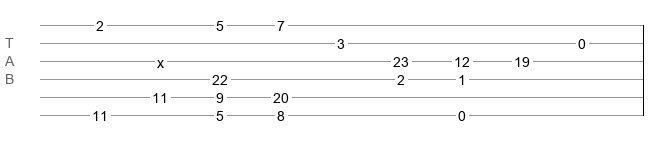0: (458, 108, 466, 118), (578, 36, 586, 46)
1: (458, 72, 466, 82)
11: (92, 108, 108, 118), (152, 90, 168, 100)
12: (454, 54, 470, 64)
19: (514, 54, 530, 64)
2: (96, 18, 104, 28), (397, 72, 405, 82)
20: (273, 90, 289, 100)
22: (212, 72, 228, 82)
23: (393, 54, 409, 64)
3: (337, 36, 345, 46)
5: (216, 108, 224, 118), (216, 18, 224, 28)
7: (277, 18, 285, 28)
8: (277, 108, 285, 118)
9: (216, 90, 224, 100)
x: (157, 55, 164, 63)
